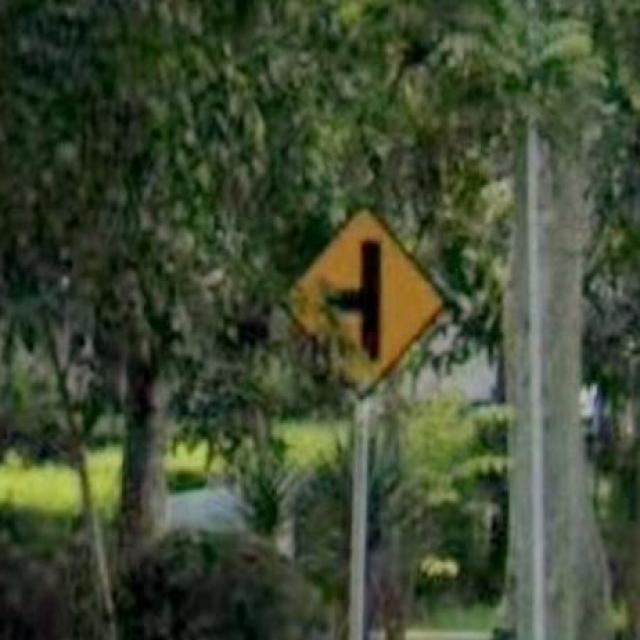traffic sign: (320, 224, 435, 371)
